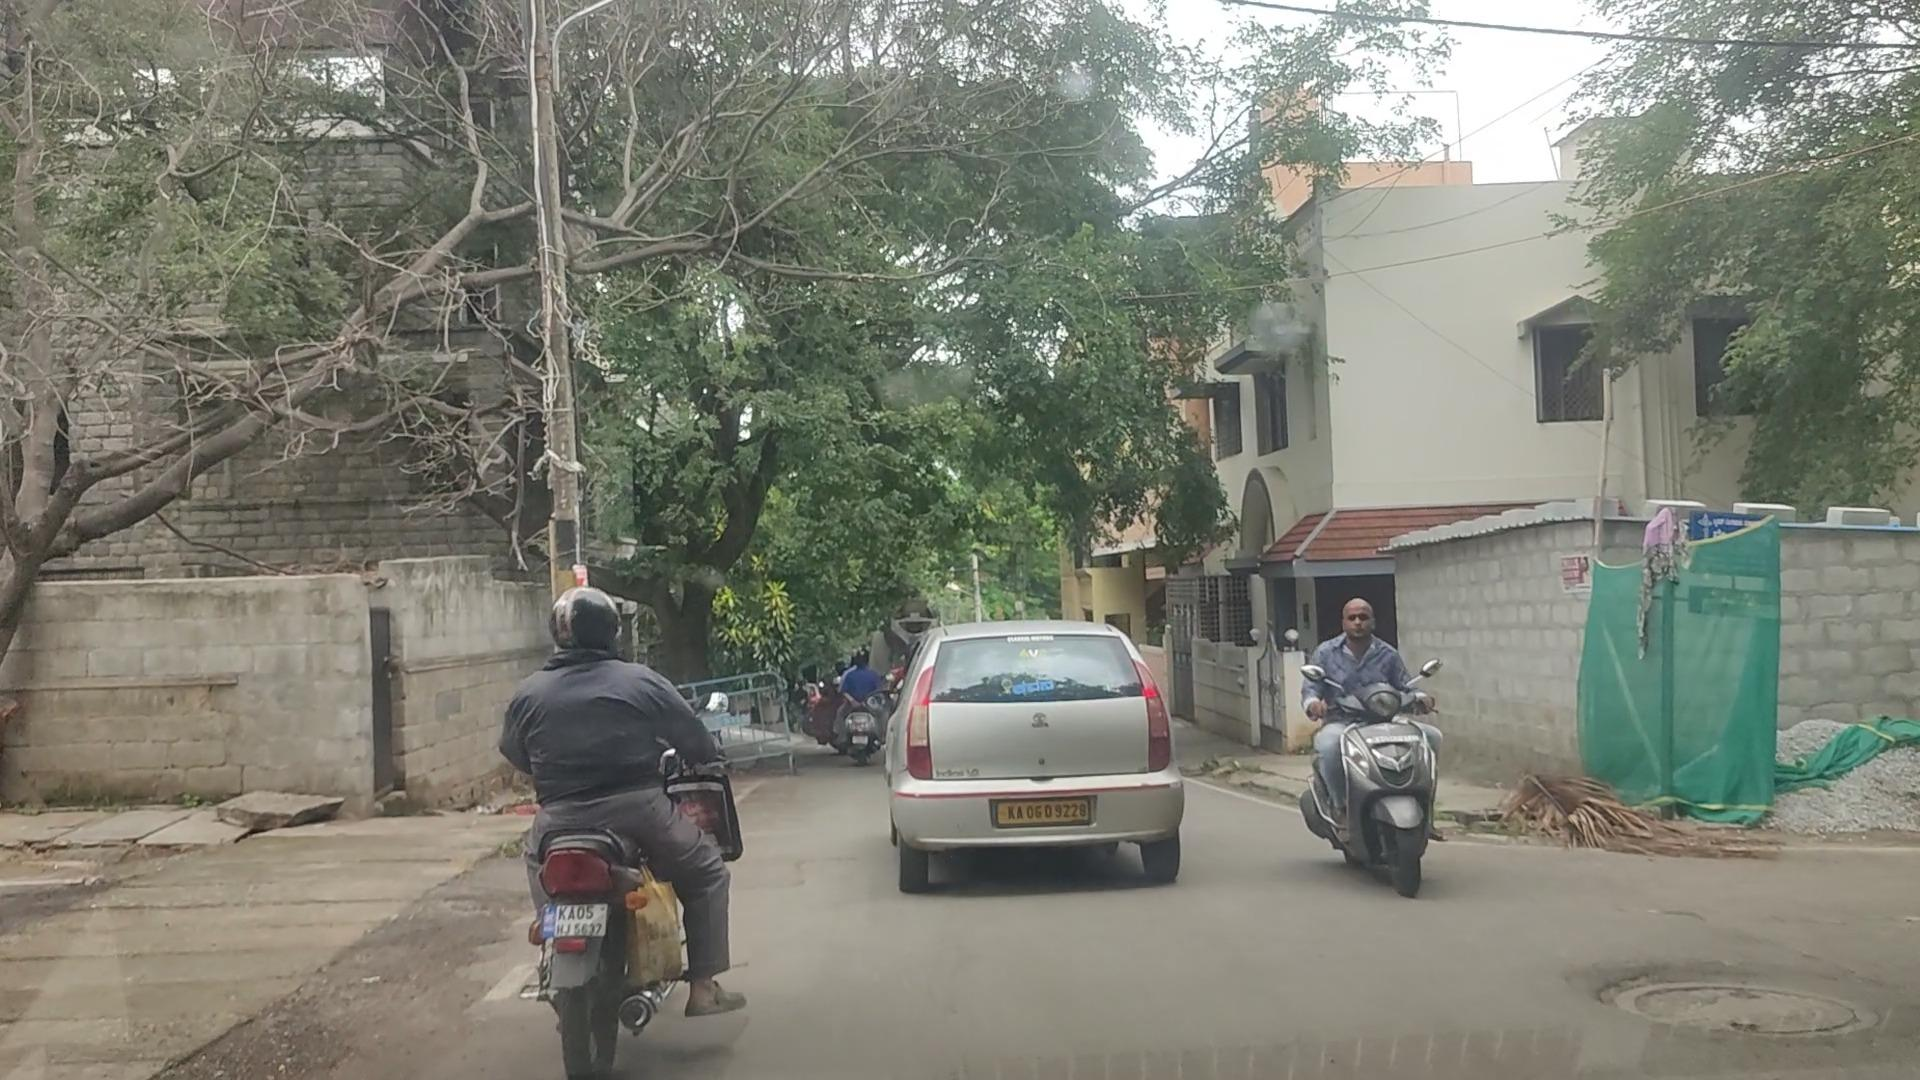LMV: (475, 611, 692, 1080), (876, 604, 1200, 897), (1302, 597, 1445, 887)
RoadDamages: (1580, 942, 1902, 1079)
